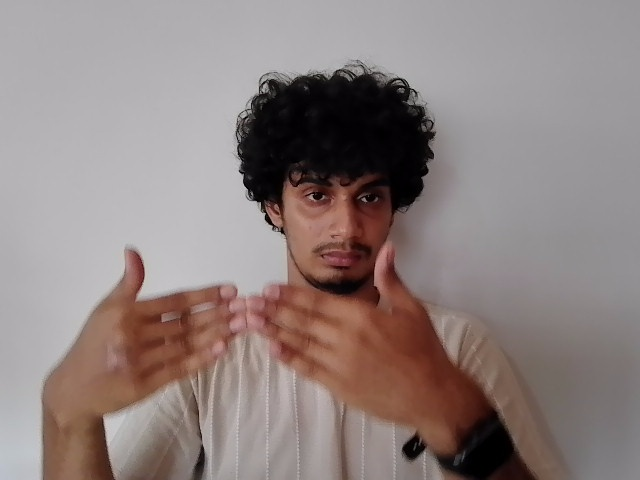family: (43, 242, 476, 443)
